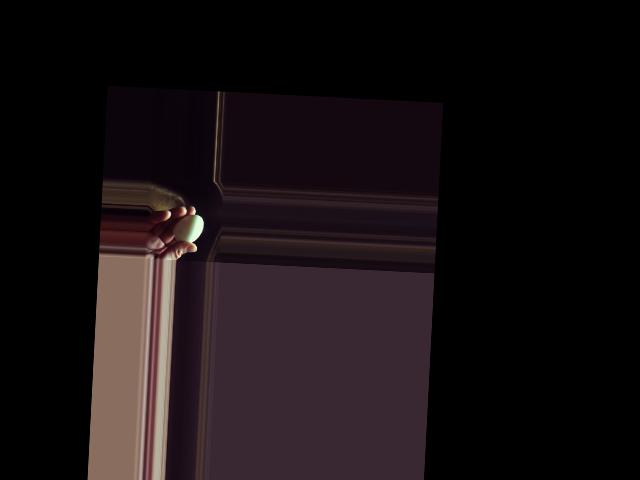egg: (173, 214, 203, 243)
